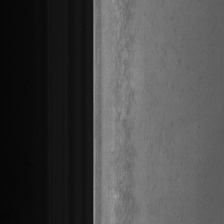silk_spot: (111, 16, 138, 213)
